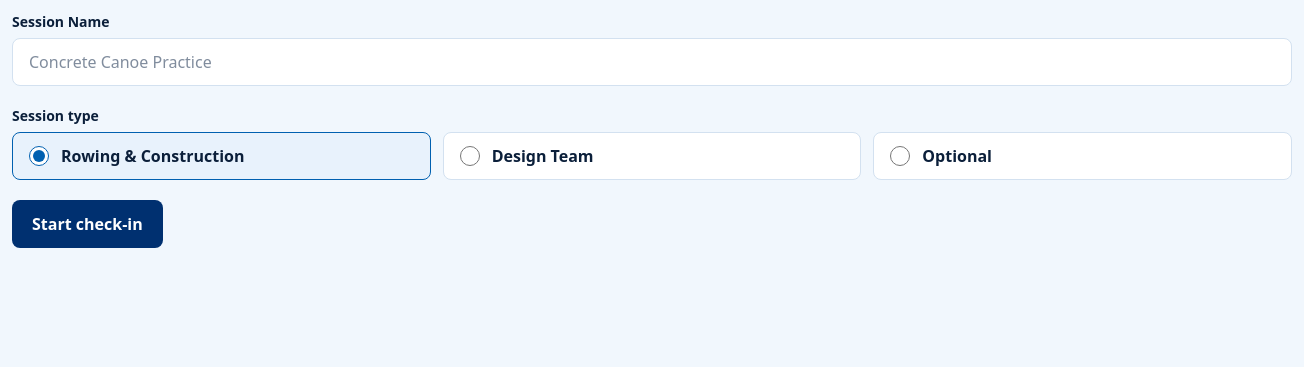
it: SessionForm: single session type › links an audience error to the radio group and focuses it
Click the button "Start check-in".
click(87, 224)  # box [12,200,163,248]
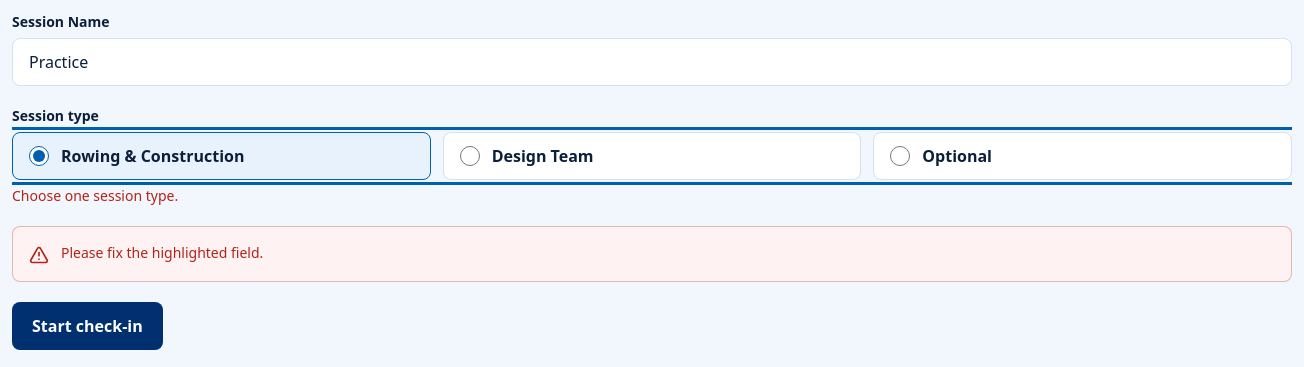
Now the text "Choose one session type." is shown, box [12,186,178,205]
